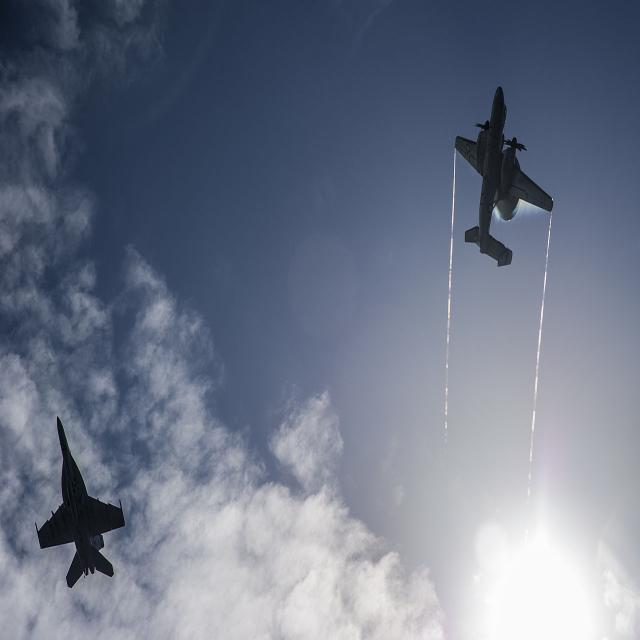MIL_Plane: (454, 85, 554, 268), (34, 415, 126, 589)
